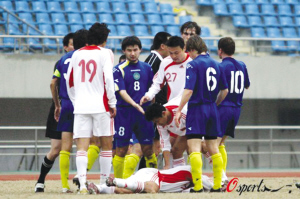fall: (82, 154, 217, 196)
